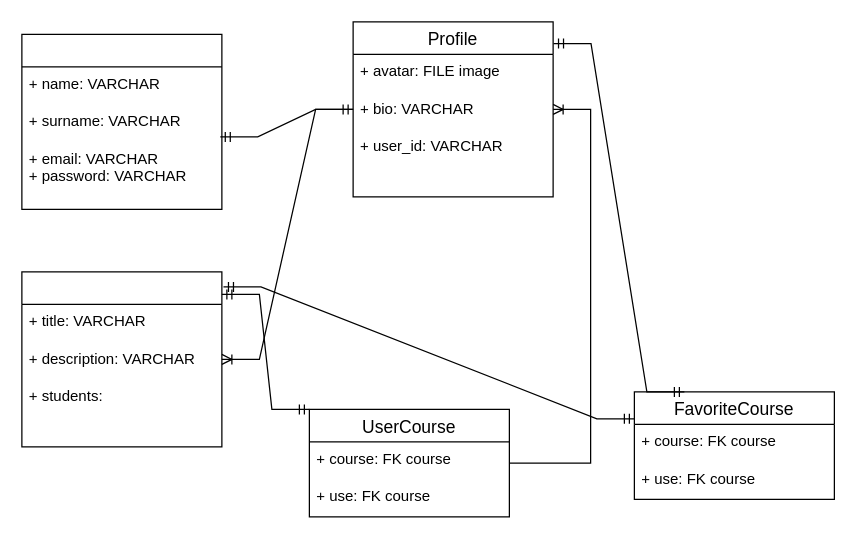
Image size: 856x543. Some labels were removed from this diagram. Each missing label, with the box of its shape:
Courses: (21, 271, 222, 447)
User: (21, 33, 222, 209)
